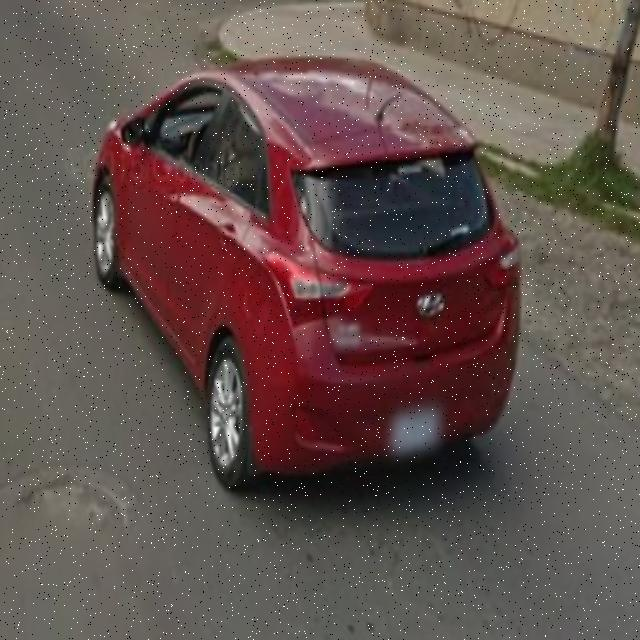cars: (90, 48, 520, 490)
